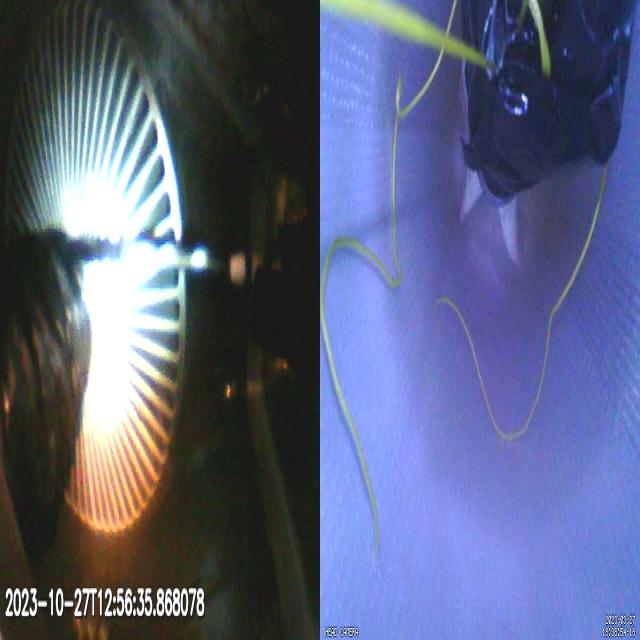white-dots: (230, 248, 283, 288)
